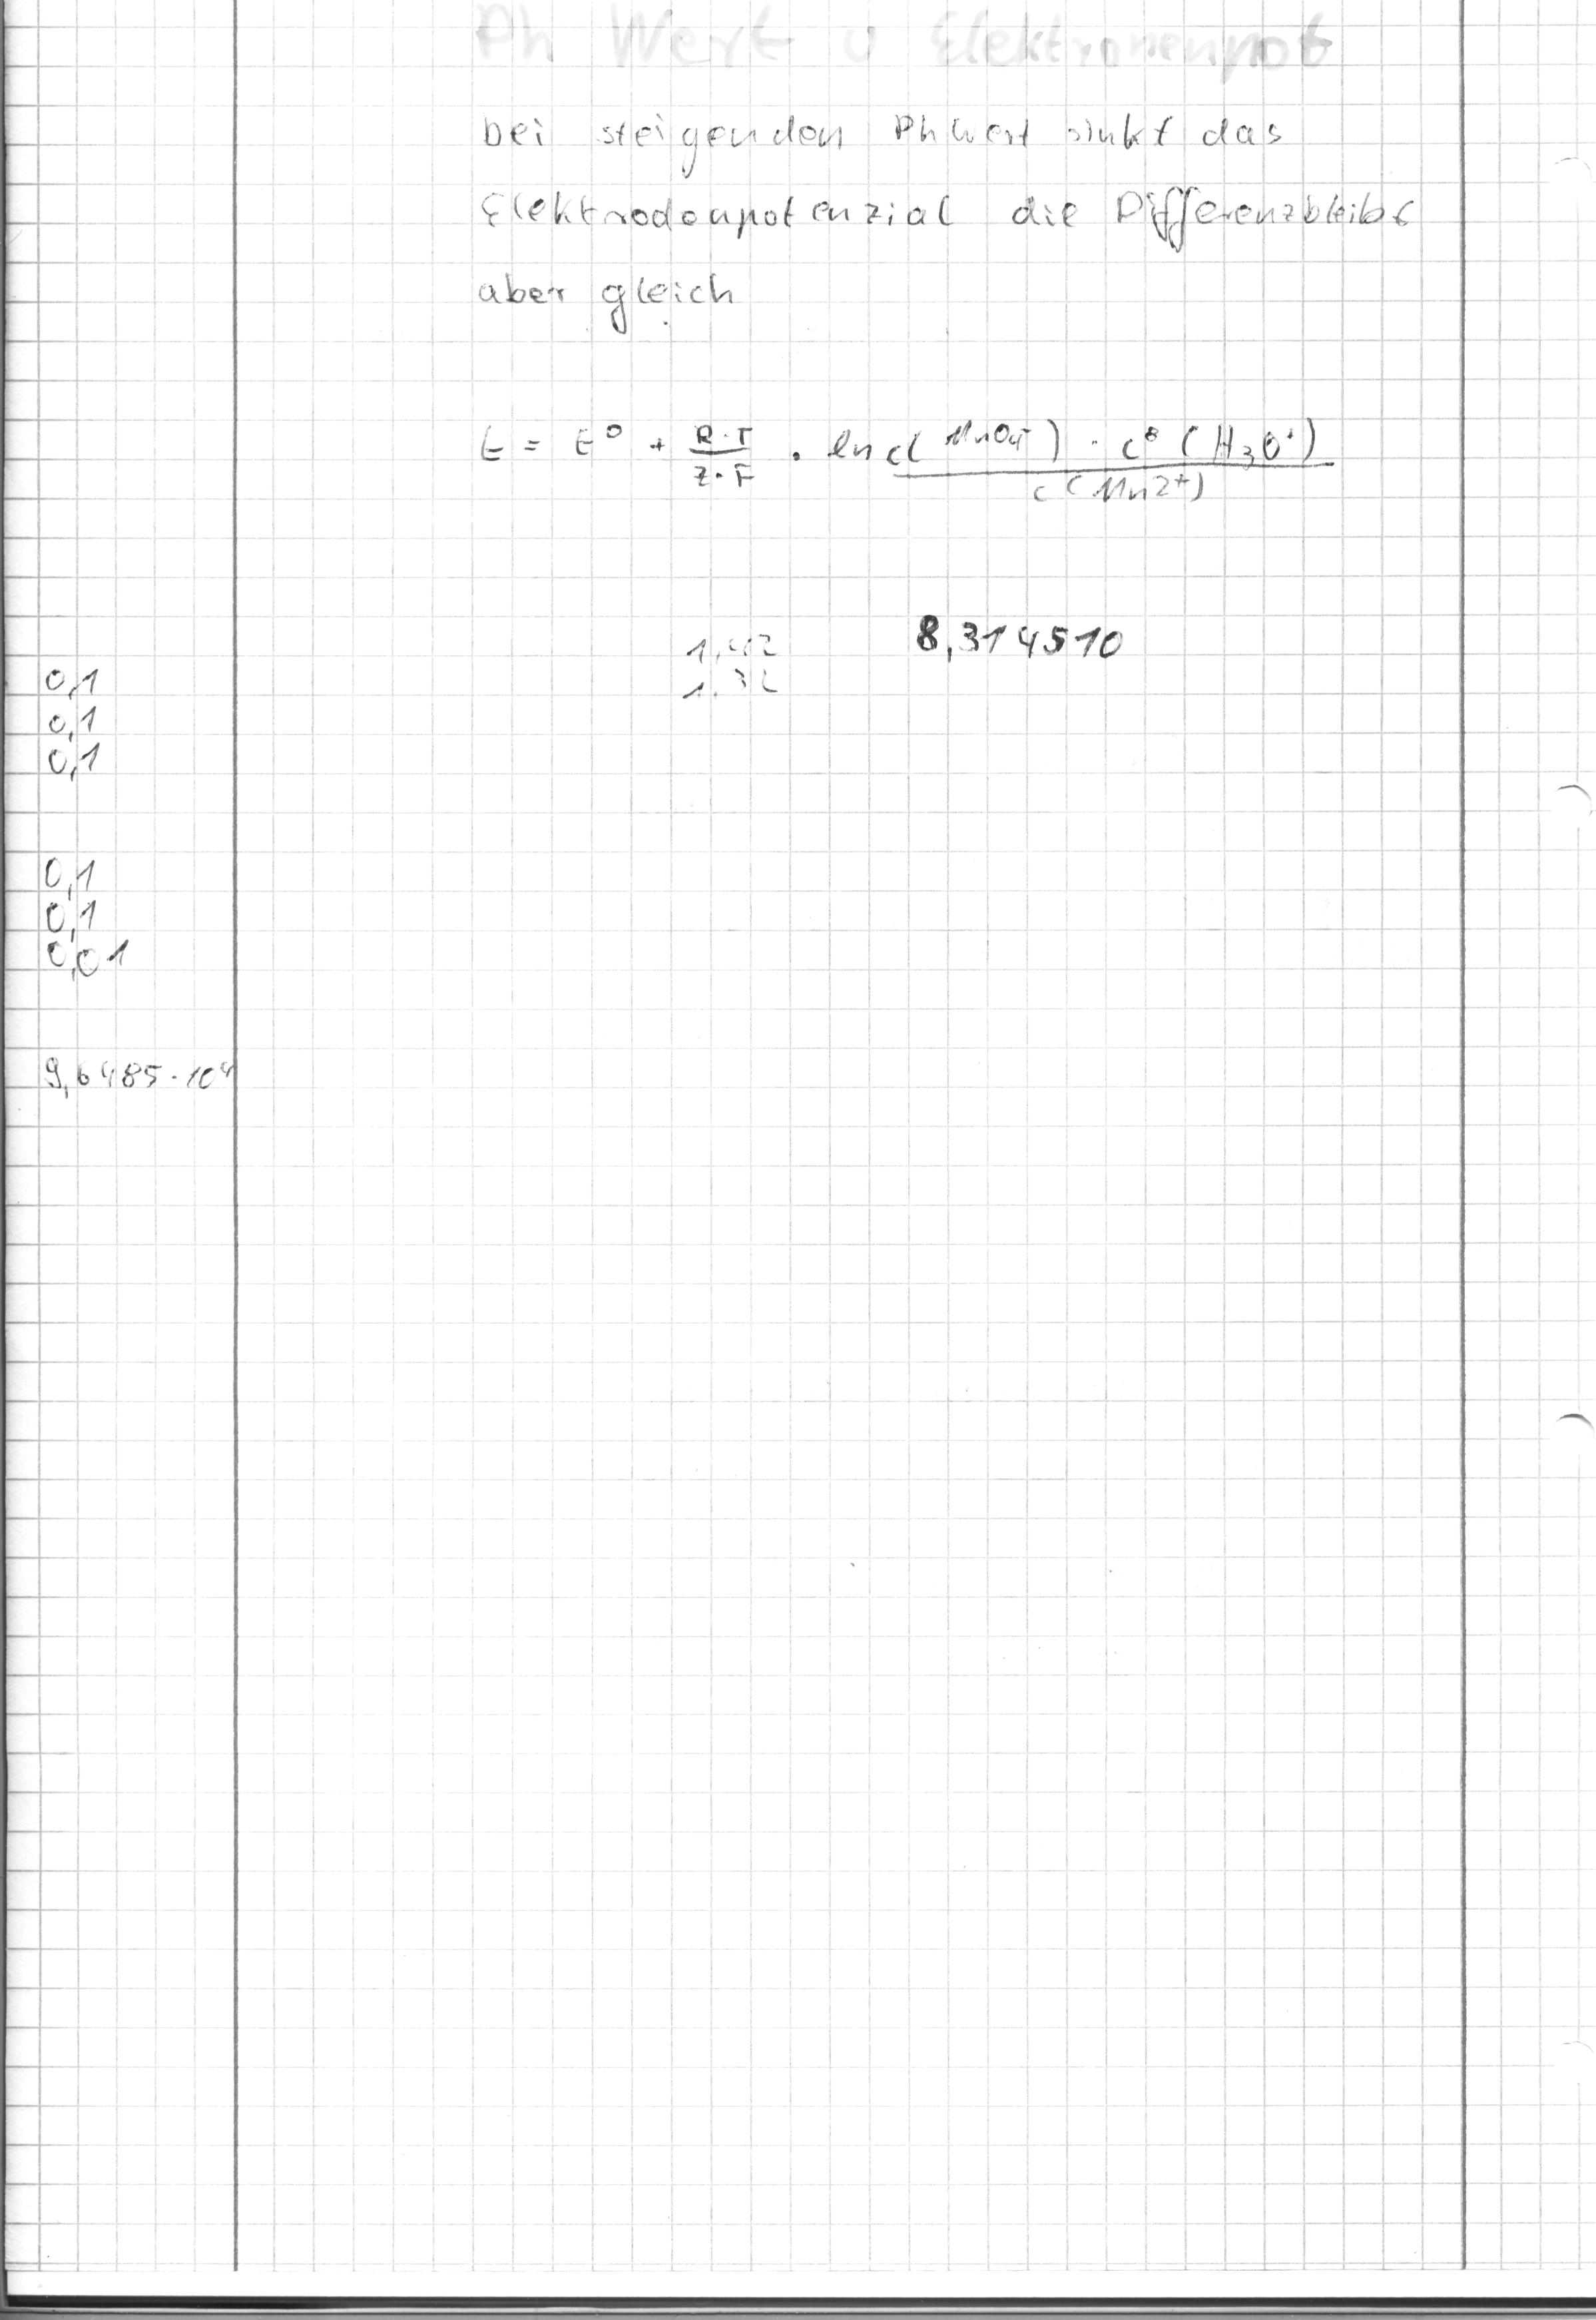word: (470, 95, 1434, 340), (459, 397, 1346, 525), (893, 589, 1143, 697), (26, 1018, 257, 1130), (655, 606, 820, 730), (25, 830, 146, 986), (23, 643, 133, 792)
